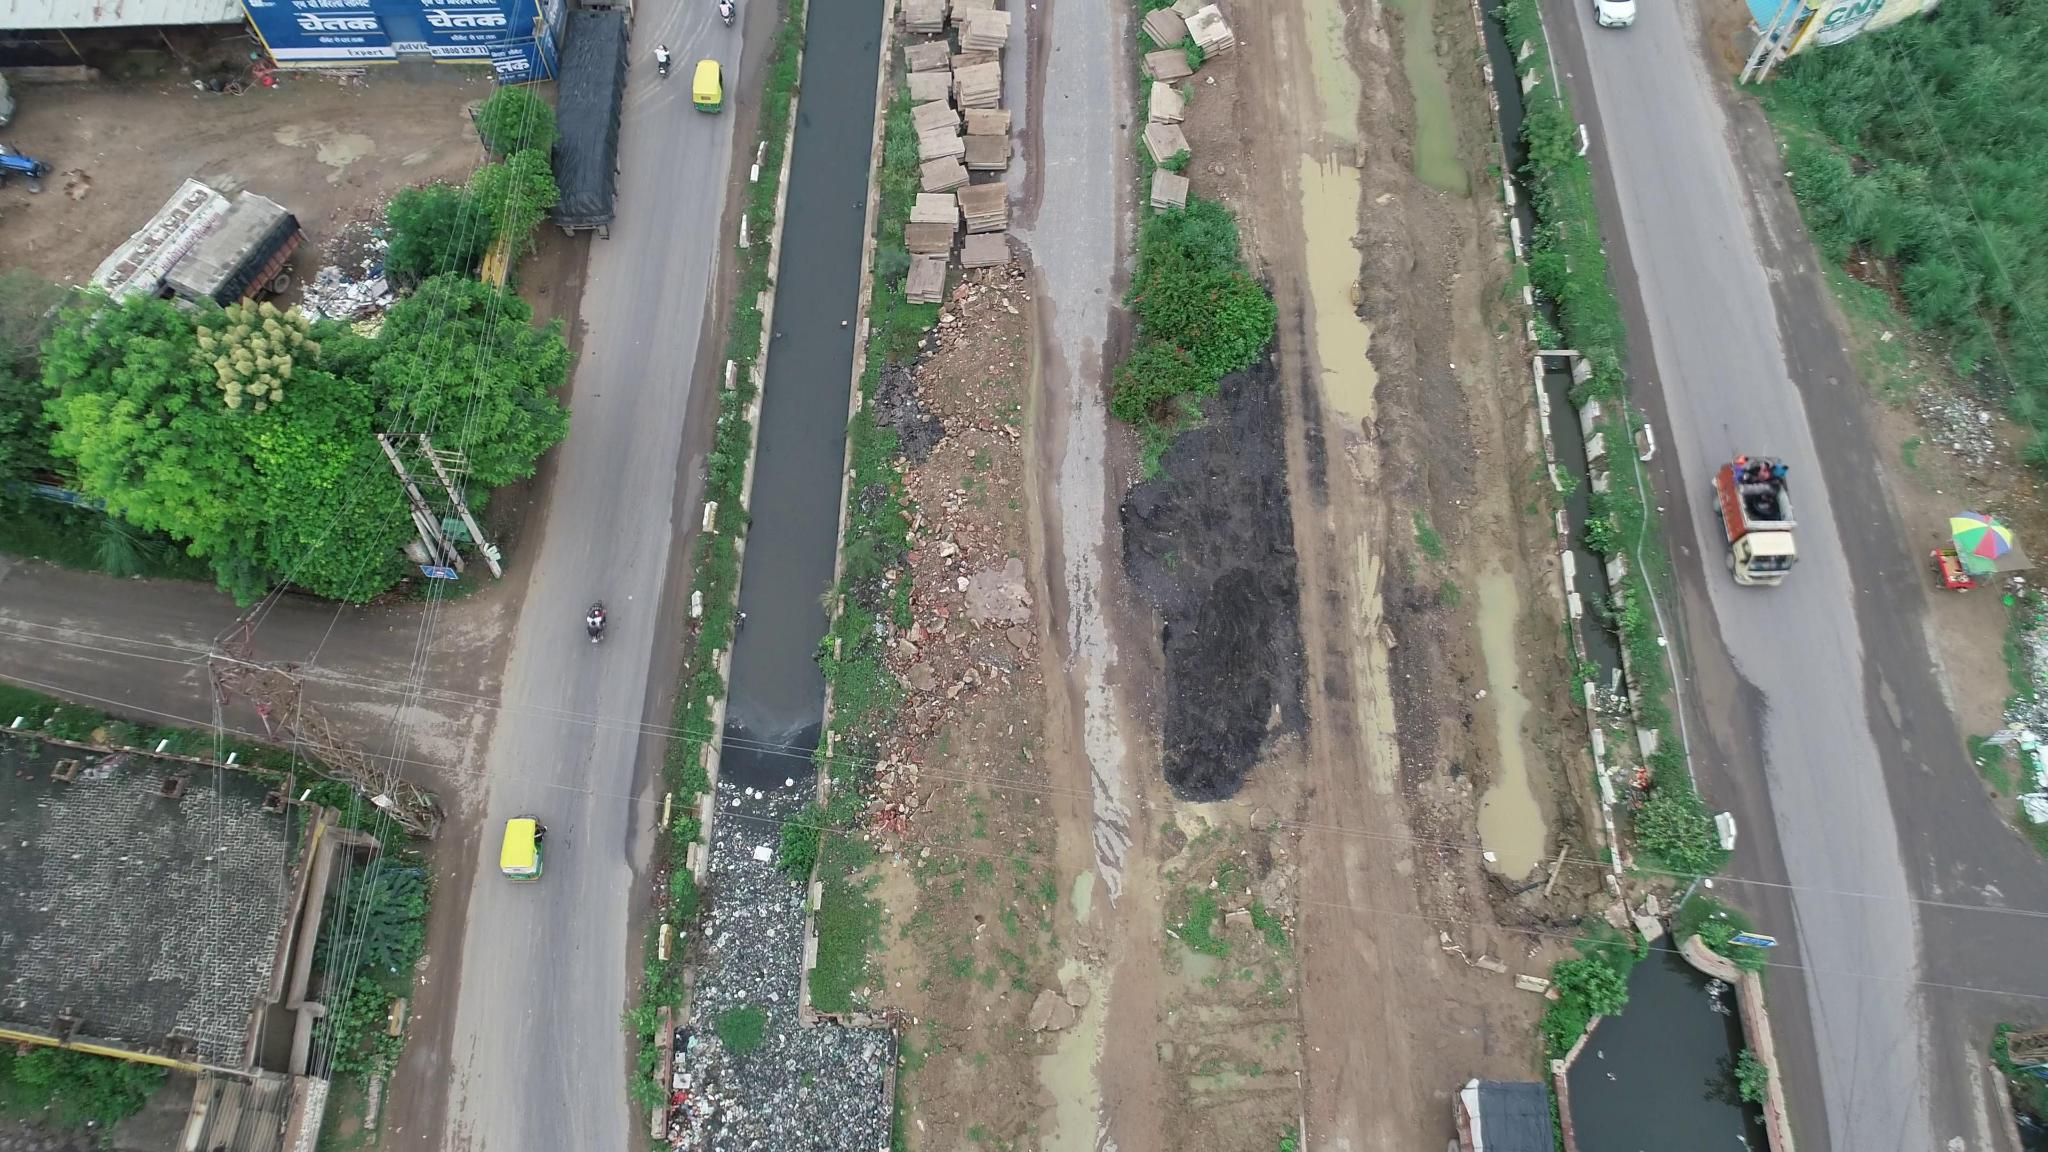Potholes: (1872, 663, 1928, 781), (1820, 369, 1861, 409)
